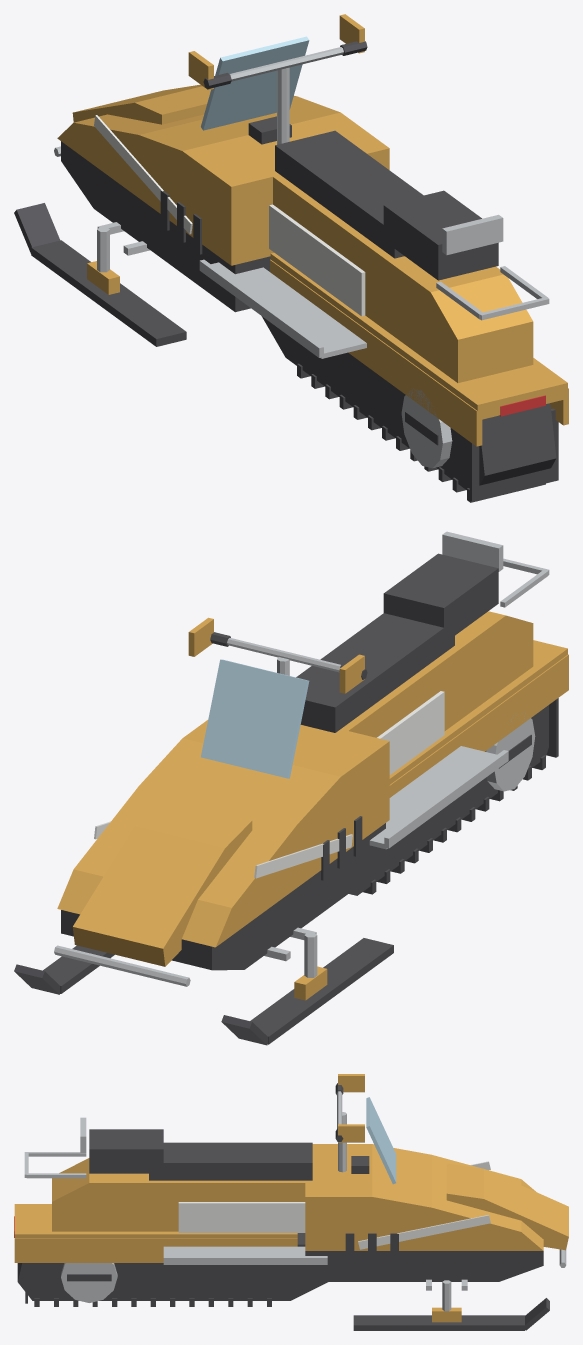
Rendered from snowmobile.glb.
3 views of the same model, one above another, from view 1: azimuth 30°, elevation 25°; view 2: azimuth 150°, elevation 25°; view 3: azimuth 270°, elevation 25° (orthographic). The views are drawn at different scales.
Visible parts, largest first — view 1: body, ski_FL, wheel_RL; view 2: body, ski_FL, wheel_RL, ski_FR; view 3: body, ski_FR, wheel_RR.
Boxes of the visible parts, bbox=[...] form: body: bbox=[54, 14, 568, 502]; ski_FL: bbox=[14, 203, 186, 346]; wheel_RL: bbox=[401, 388, 452, 468]; body: bbox=[54, 531, 568, 986]; ski_FL: bbox=[221, 932, 393, 1045]; wheel_RL: bbox=[486, 713, 535, 791]; ski_FR: bbox=[14, 945, 114, 994]; body: bbox=[14, 1074, 568, 1306]; ski_FR: bbox=[353, 1280, 549, 1330]; wheel_RR: bbox=[61, 1263, 117, 1302].
Size of the model in its own units: 1.26 by 1.44 by 3.72.
